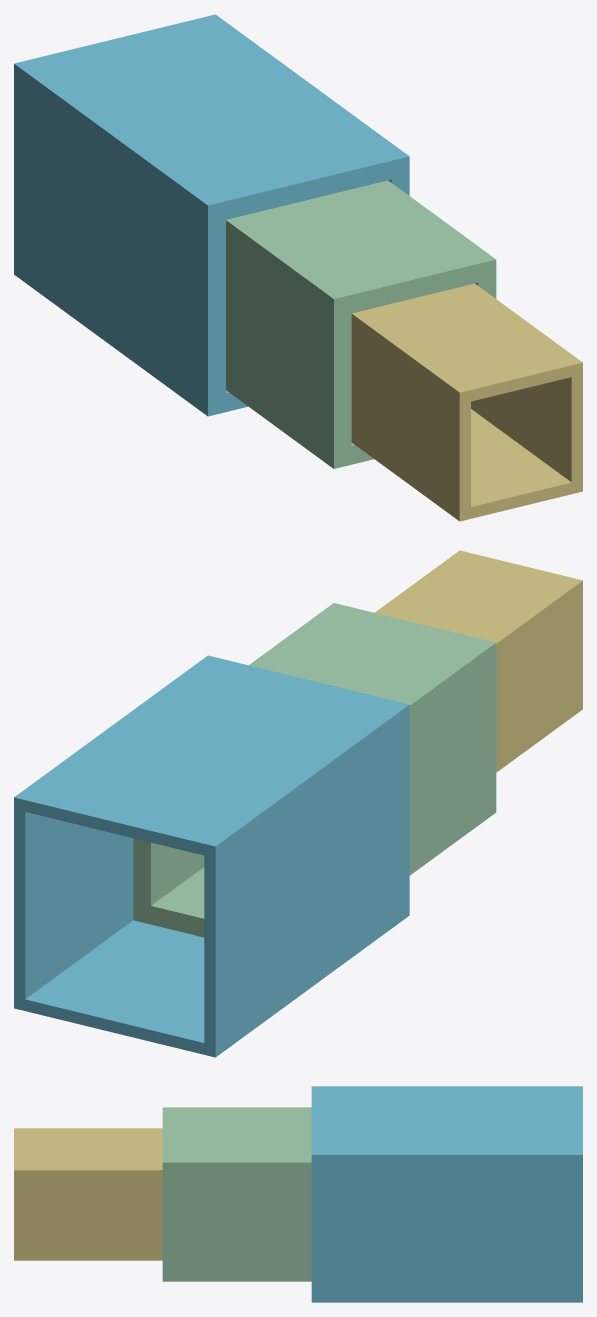
File: telescoping_stage_demo.glb
3 views of the same model, one above another, from view 1: azimuth 30°, elevation 25°; view 2: azimuth 150°, elevation 25°; view 3: azimuth 270°, elevation 25° (orthographic). The views are drawn at different scales.
Visible parts, largest first — view 1: stage_section_0, stage_section_2, stage_section_1; view 2: stage_section_0, stage_section_1, stage_section_2; view 3: stage_section_0, stage_section_1, stage_section_2.
Part boxes in pixels (x1,y1,x2,y2): stage_section_0: (14, 14, 409, 416); stage_section_2: (351, 283, 582, 521); stage_section_1: (226, 180, 496, 468); stage_section_0: (14, 655, 409, 1057); stage_section_1: (133, 603, 496, 937); stage_section_2: (375, 550, 582, 772); stage_section_0: (311, 1086, 582, 1302); stage_section_1: (162, 1107, 311, 1281); stage_section_2: (14, 1128, 162, 1260).
Size of the model in its own units: 36 by 36 by 126.
